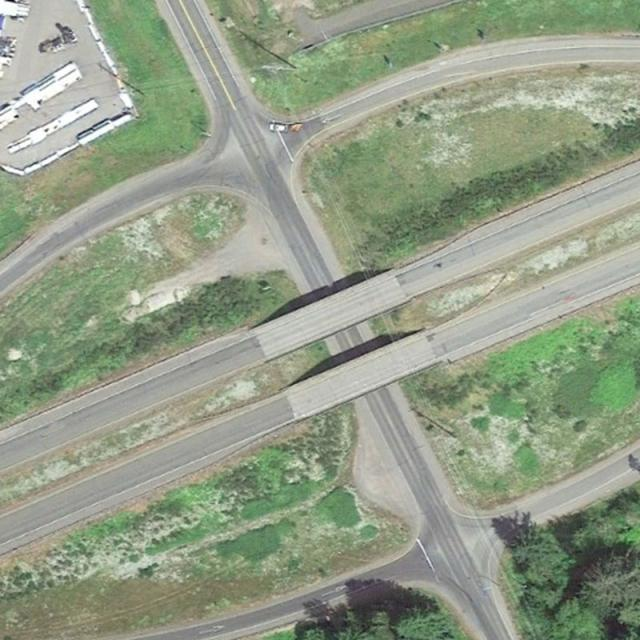vehicle: (269, 122, 287, 131)
